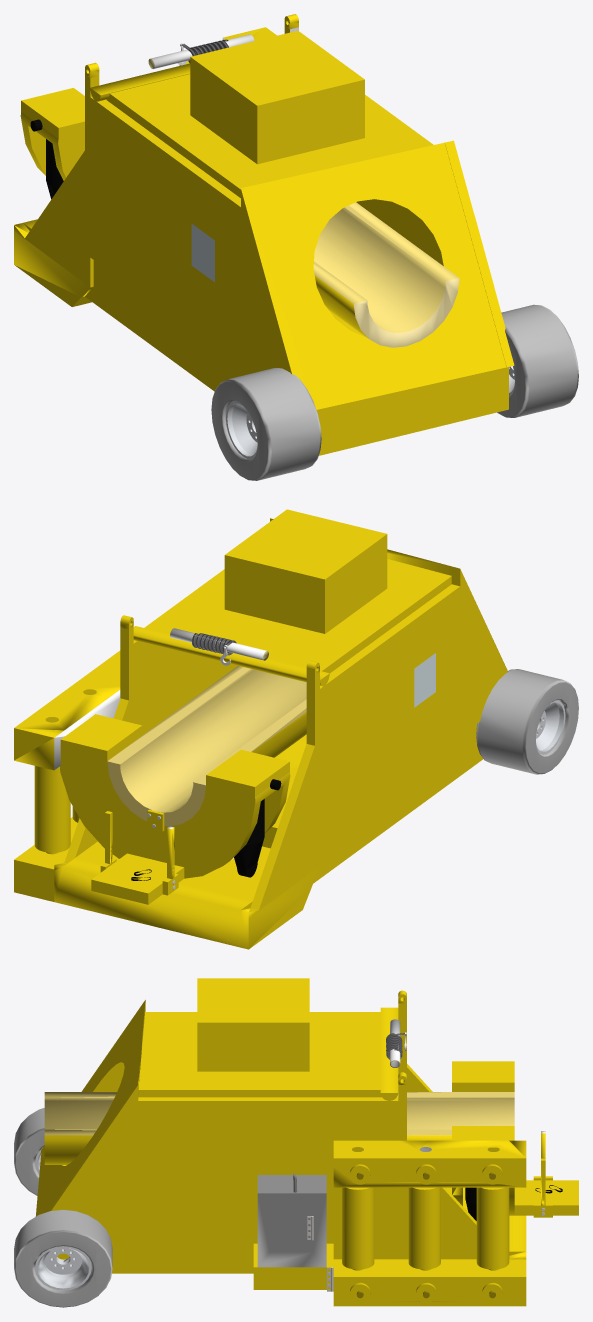
File: PipeBender.fbx
3 renders of one model, top to bottom at view 1: azimuth 30°, elevation 25°; view 2: azimuth 150°, elevation 25°; view 3: azimuth 270°, elevation 25°, orthographic. The views are drawn at different scales.
Parts seen in each view (by area): view 1: PipeBender; view 2: PipeBender; view 3: PipeBender.
Part boxes in pixels (x1,y1,x2,y2): PipeBender: (14,14,578,480); PipeBender: (14,509,578,949); PipeBender: (14,978,578,1307).
Bounding box in the file's own units: 417 × 367 × 770.
